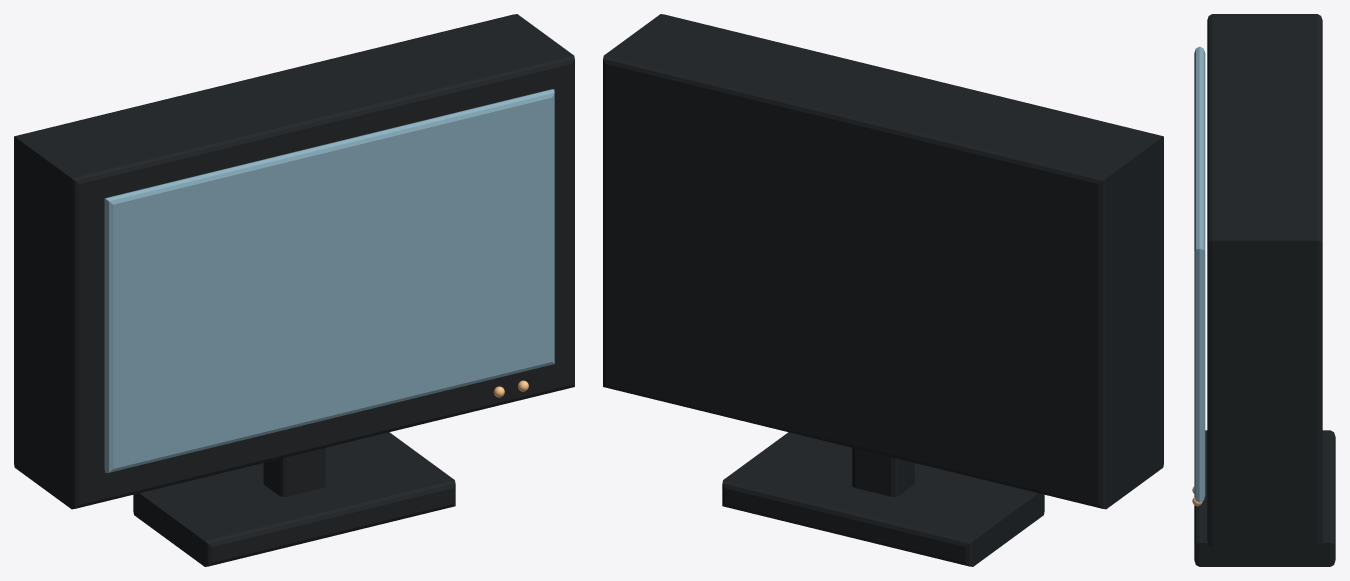
The model's file is security-monitor.glb.
3 renders of one model, left to right at view 1: azimuth 30°, elevation 25°; view 2: azimuth 150°, elevation 25°; view 3: azimuth 270°, elevation 25°, orthographic. The views are drawn at different scales.
Visible parts, largest first — view 1: security-monitor; view 2: security-monitor; view 3: security-monitor.
Boxes of the visible parts, x1,y1,x2,y2 form: security-monitor: (14, 14, 574, 566); security-monitor: (603, 14, 1163, 566); security-monitor: (1192, 14, 1335, 566).
Bounding box in the file's own units: 0.836 × 0.661 × 0.223.
